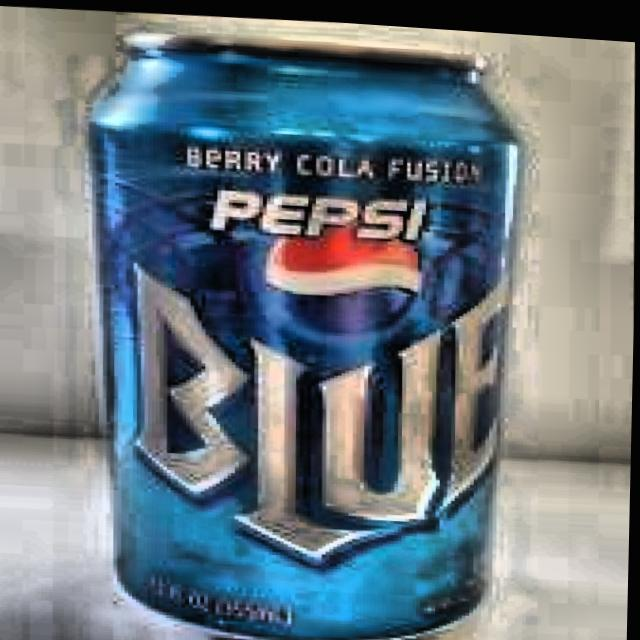Cans: (63, 4, 534, 640)
